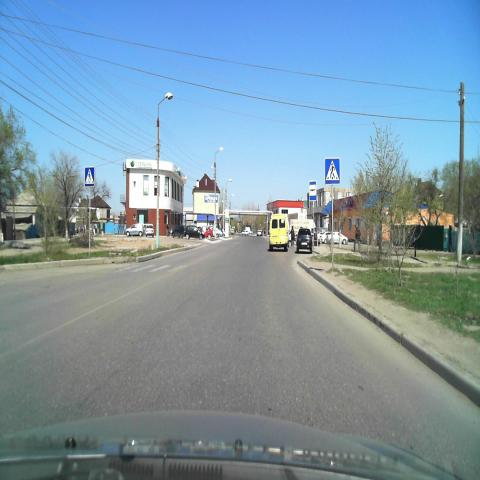5_16: (308, 181, 316, 202)
5_19_1: (324, 158, 340, 184), (85, 167, 95, 189)
